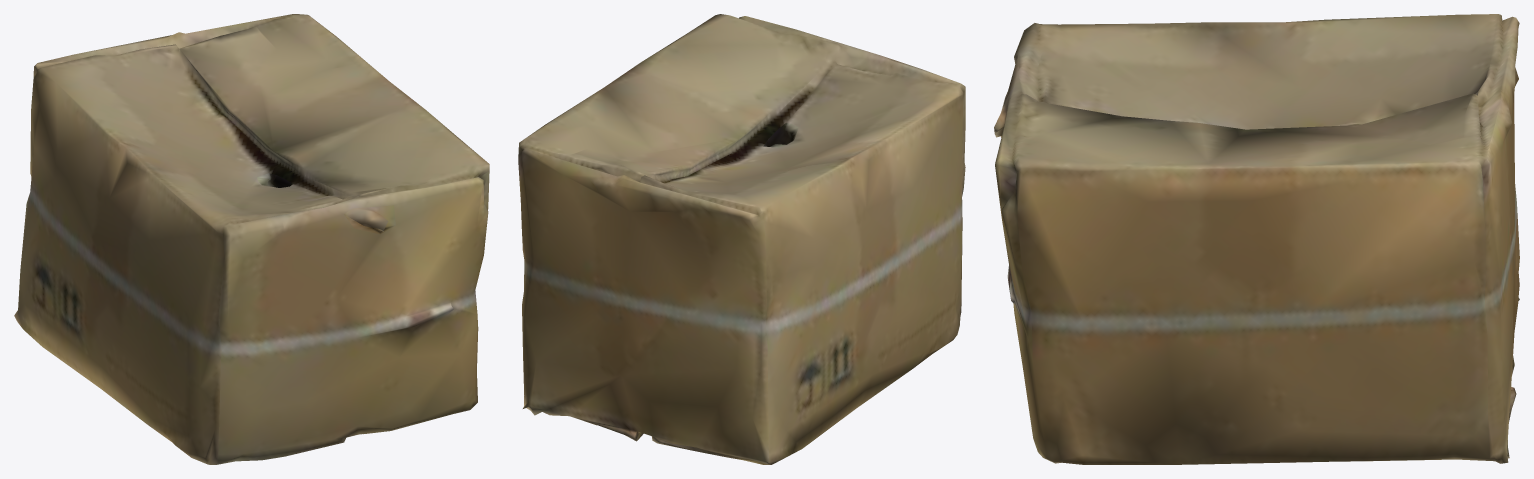
File: cardboard_box_01.glb
3 renders of one model, left to right at view 1: azimuth 30°, elevation 25°; view 2: azimuth 150°, elevation 25°; view 3: azimuth 270°, elevation 25°, orthographic. The views are drawn at different scales.
Visible parts, largest first — view 1: cardboard_box_01; view 2: cardboard_box_01; view 3: cardboard_box_01.
Boxes of the visible parts, x1,y1,x2,y2 form: cardboard_box_01: (14, 14, 489, 464); cardboard_box_01: (518, 14, 965, 464); cardboard_box_01: (994, 14, 1519, 464).
Bounding box in the file's own units: 0.3868 × 0.3407 × 0.5159.
1 material, 1 textured.
